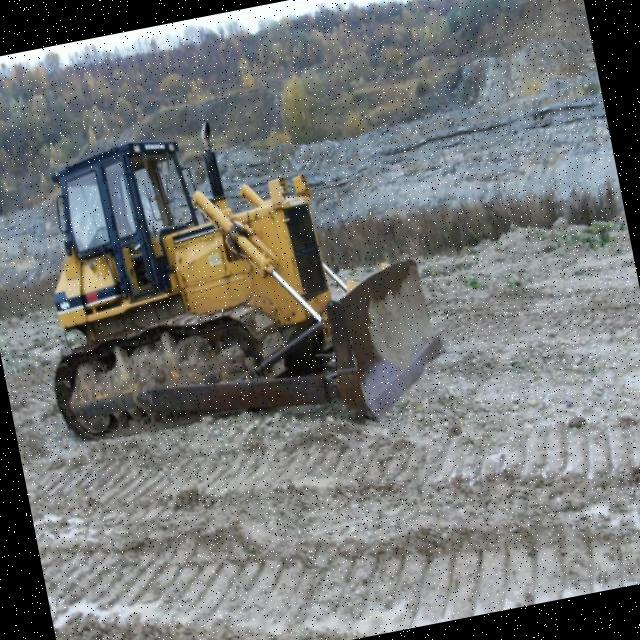Bulldozer: (0, 51, 475, 490)
